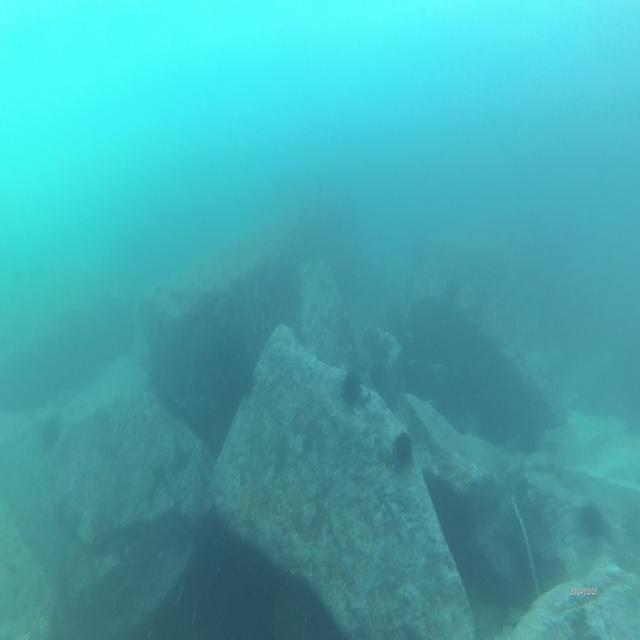echinus: (570, 492, 610, 570), (388, 421, 416, 475), (338, 362, 364, 410)
